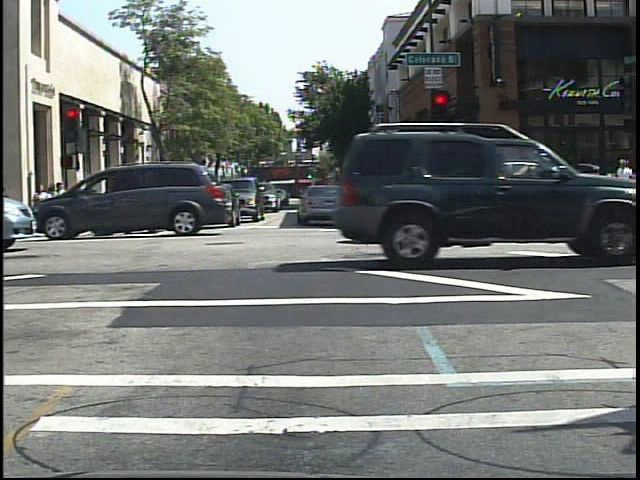person: (614, 153, 637, 186), (165, 181, 183, 221)
